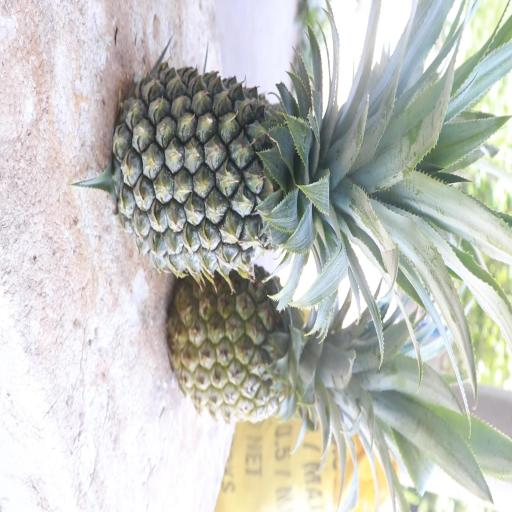------------------------------: (162, 250, 393, 430)
